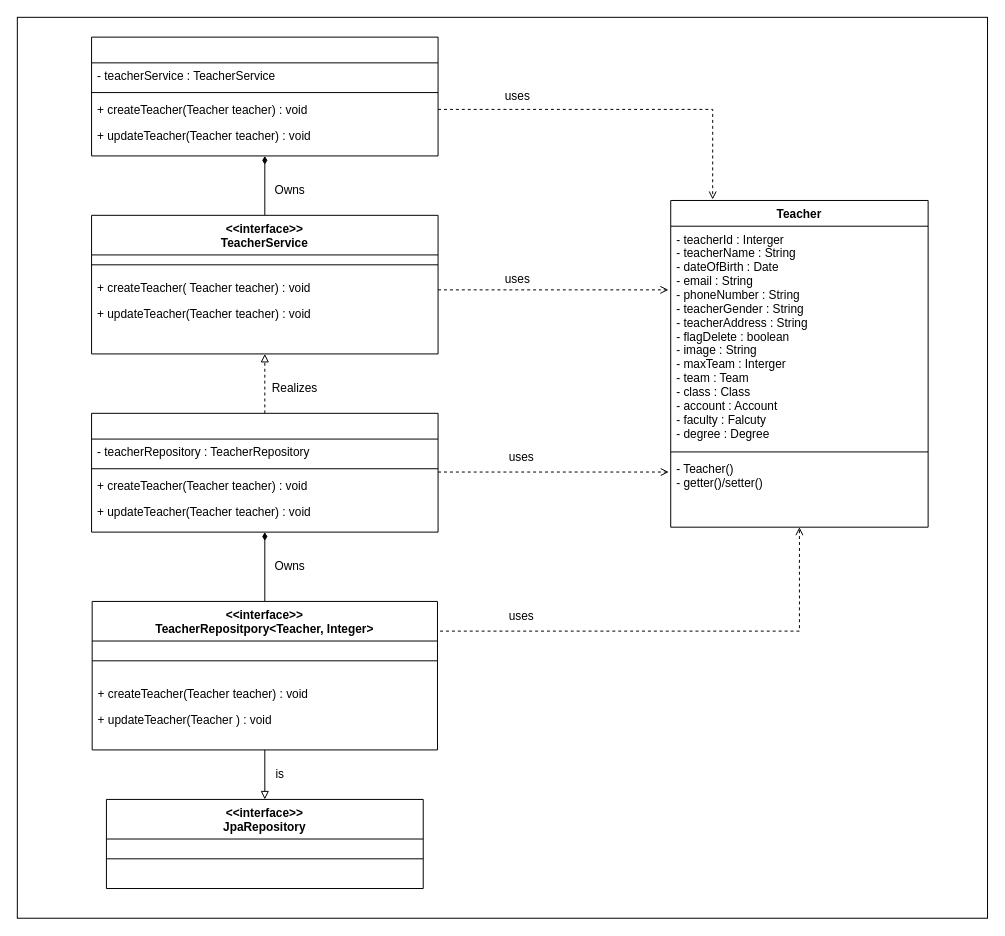
The diagram is 1005 pixels wide and 936 high, and some of its shapes have lost their labels. Each missing label, with the box of its shape:
TeacherController: (91, 36, 438, 156)
TeacherServiceImpl: (91, 412, 438, 532)
